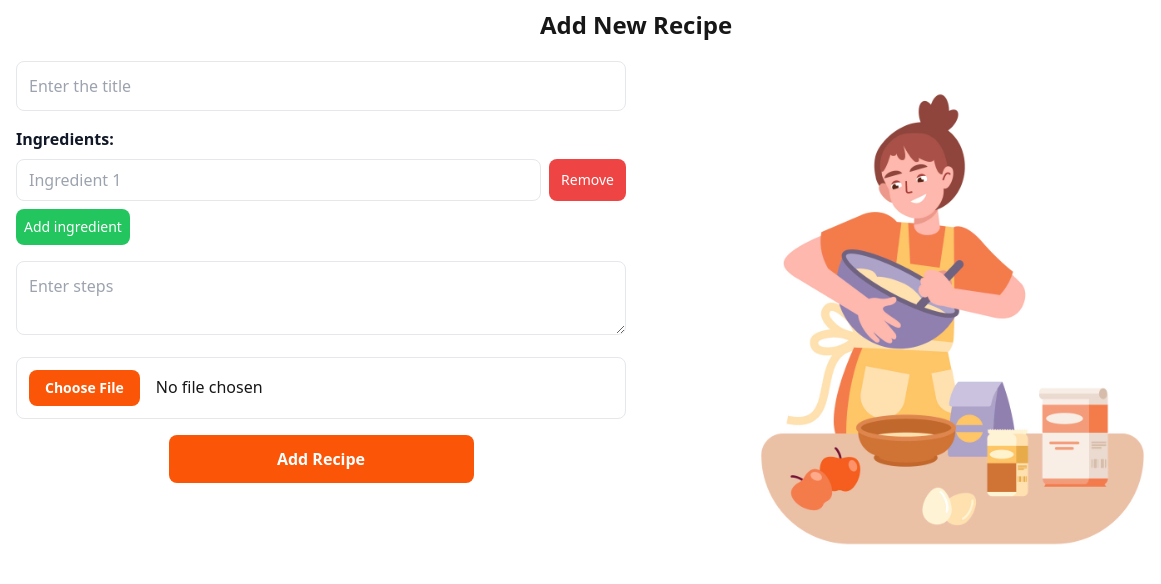
Test: AddRecipePage Component › displays validation errors when fields are empty
Note: Submit empty form
Click the button "Add Recipe": (321, 459) [168, 435, 474, 483]
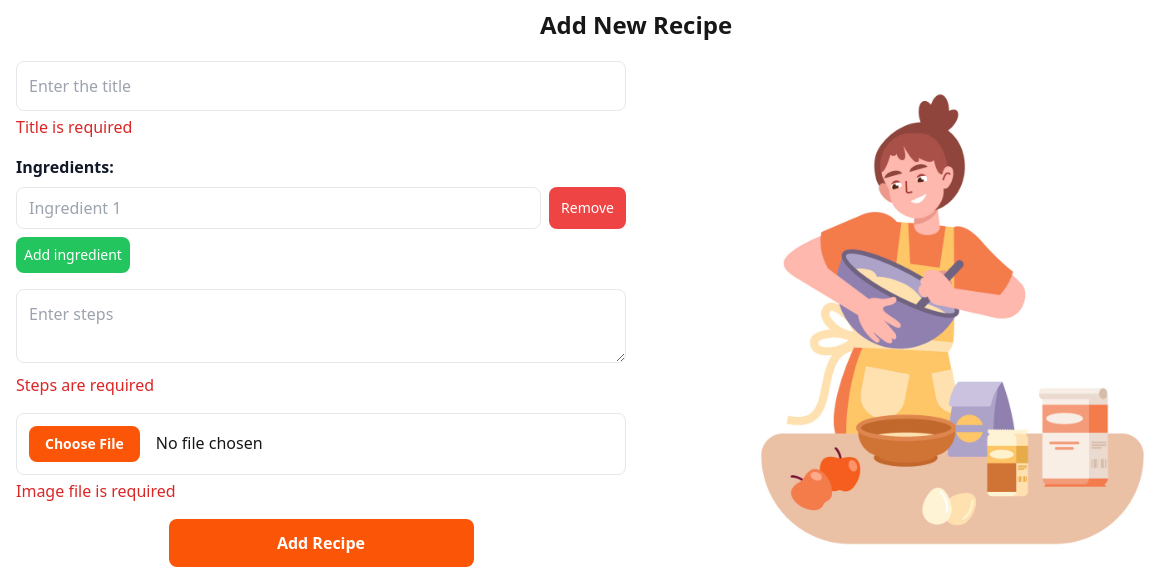
Check: the text "Title is required" is shown, box [16, 116, 132, 138]
Check: the text "Steps are required" is shown, box [16, 374, 154, 396]
Check: the text "Image file is required" is shown, box [16, 480, 176, 502]
